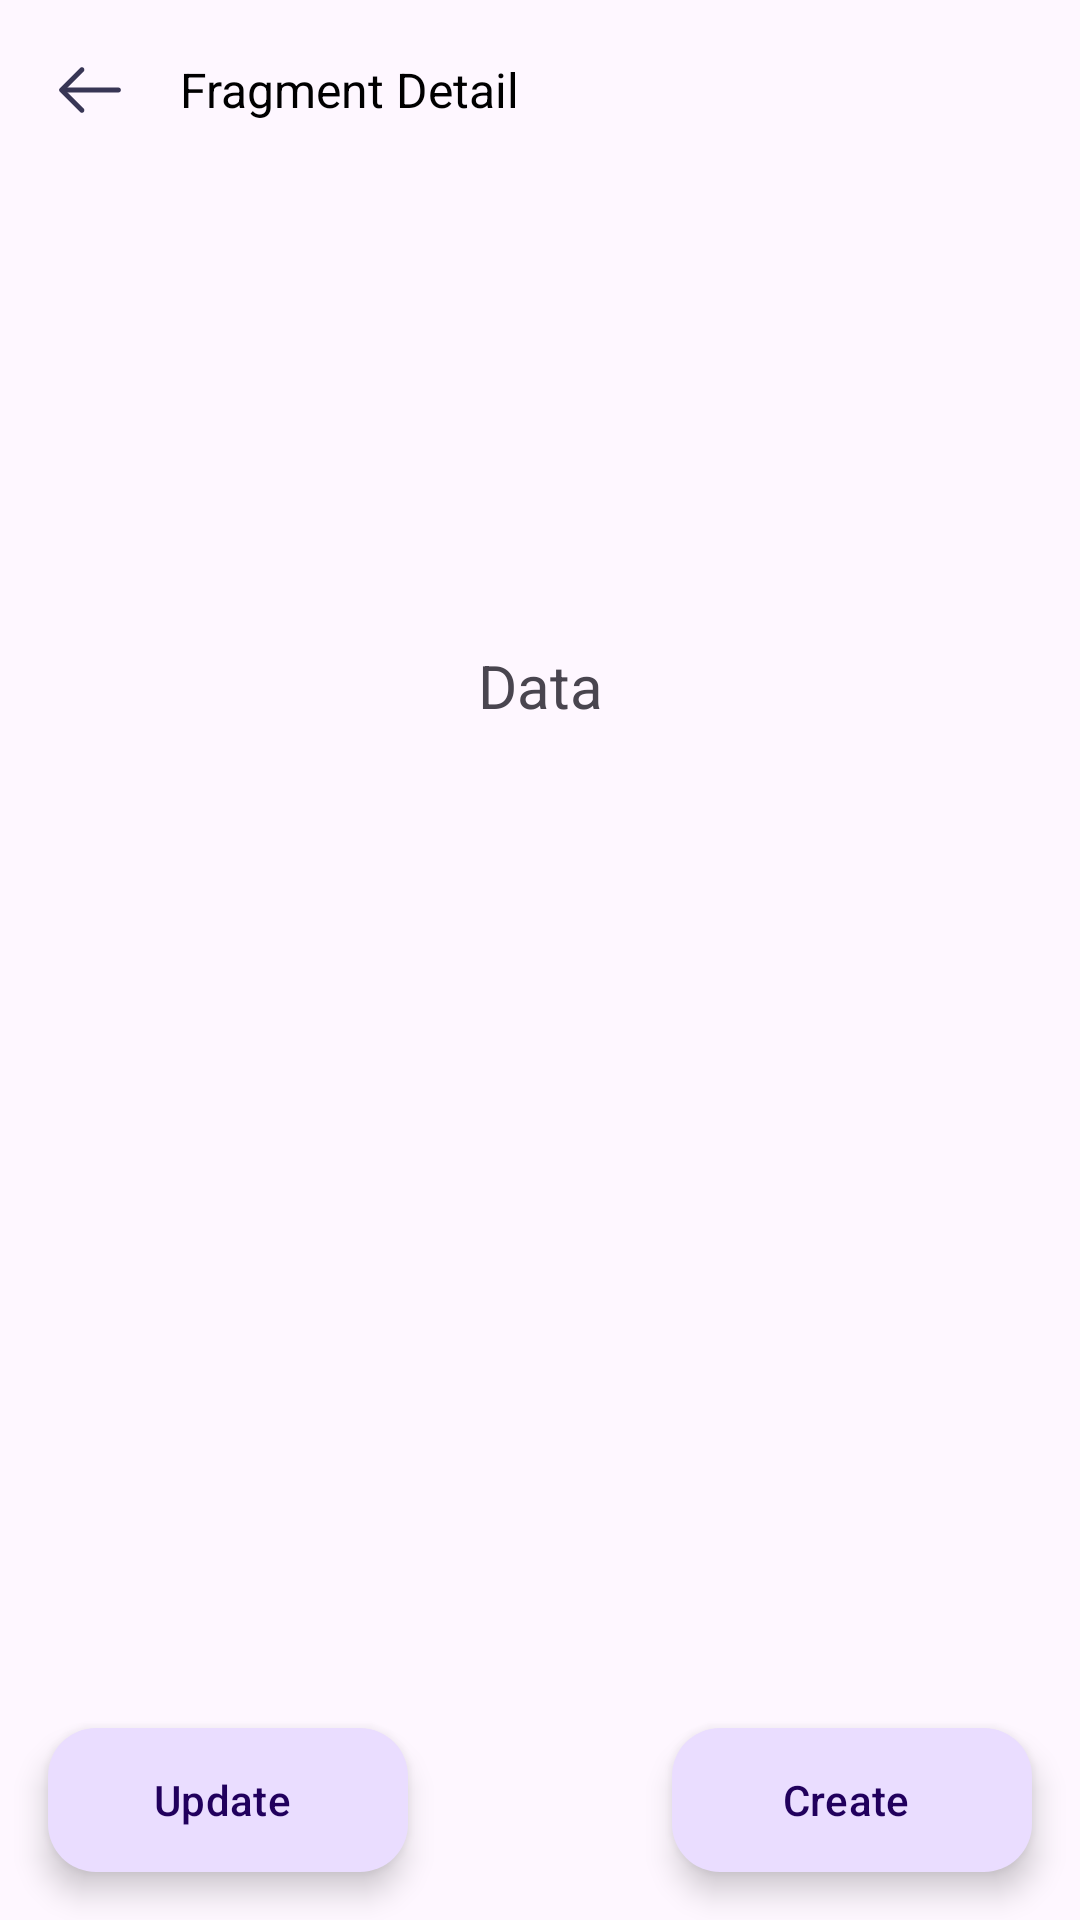

Screen size 1080x1920. Icon name, then its center in pixels as point (x, y):
back: point (90, 90)
